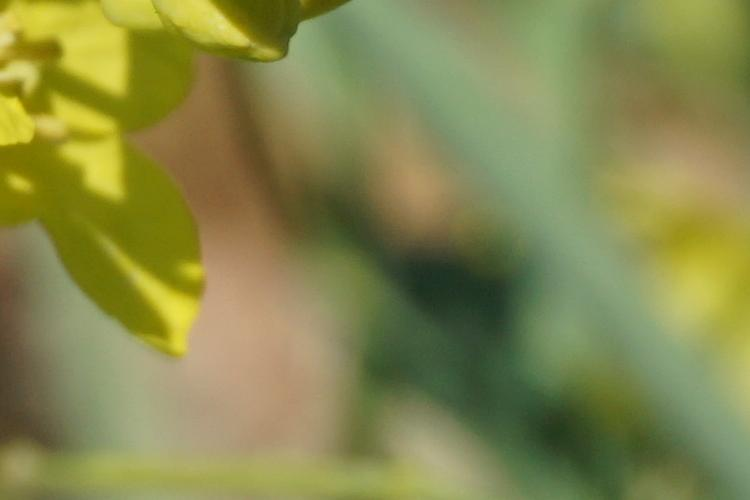yellow: (6, 6, 309, 367)
